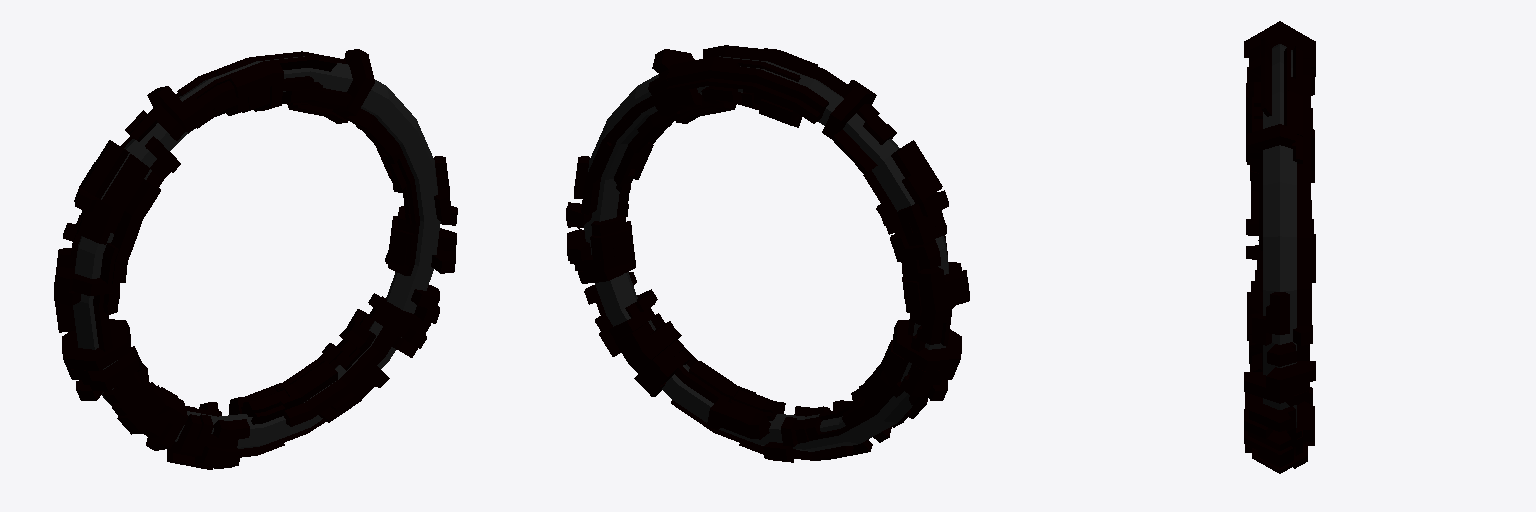
Rendered from checkpoint.obj.
3 renders of one model, left to right at view 1: azimuth 30°, elevation 25°; view 2: azimuth 150°, elevation 25°; view 3: azimuth 270°, elevation 25°, orthographic.
Parts seen in each view (by area): view 1: Checkpoint_RLExtr, Checkpoint; view 2: Checkpoint_RLExtr, Checkpoint; view 3: Checkpoint_RLExtr, Checkpoint.
Boxes of the visible parts, <box> form: Checkpoint_RLExtr: <box>54,49,457,469</box>; Checkpoint: <box>73,56,440,448</box>; Checkpoint_RLExtr: <box>566,45,969,462</box>; Checkpoint: <box>584,56,948,451</box>; Checkpoint_RLExtr: <box>1244,21,1315,473</box>; Checkpoint: <box>1263,44,1296,427</box>.
Bounding box in the file's own units: 2.4 × 2.28 × 0.373.